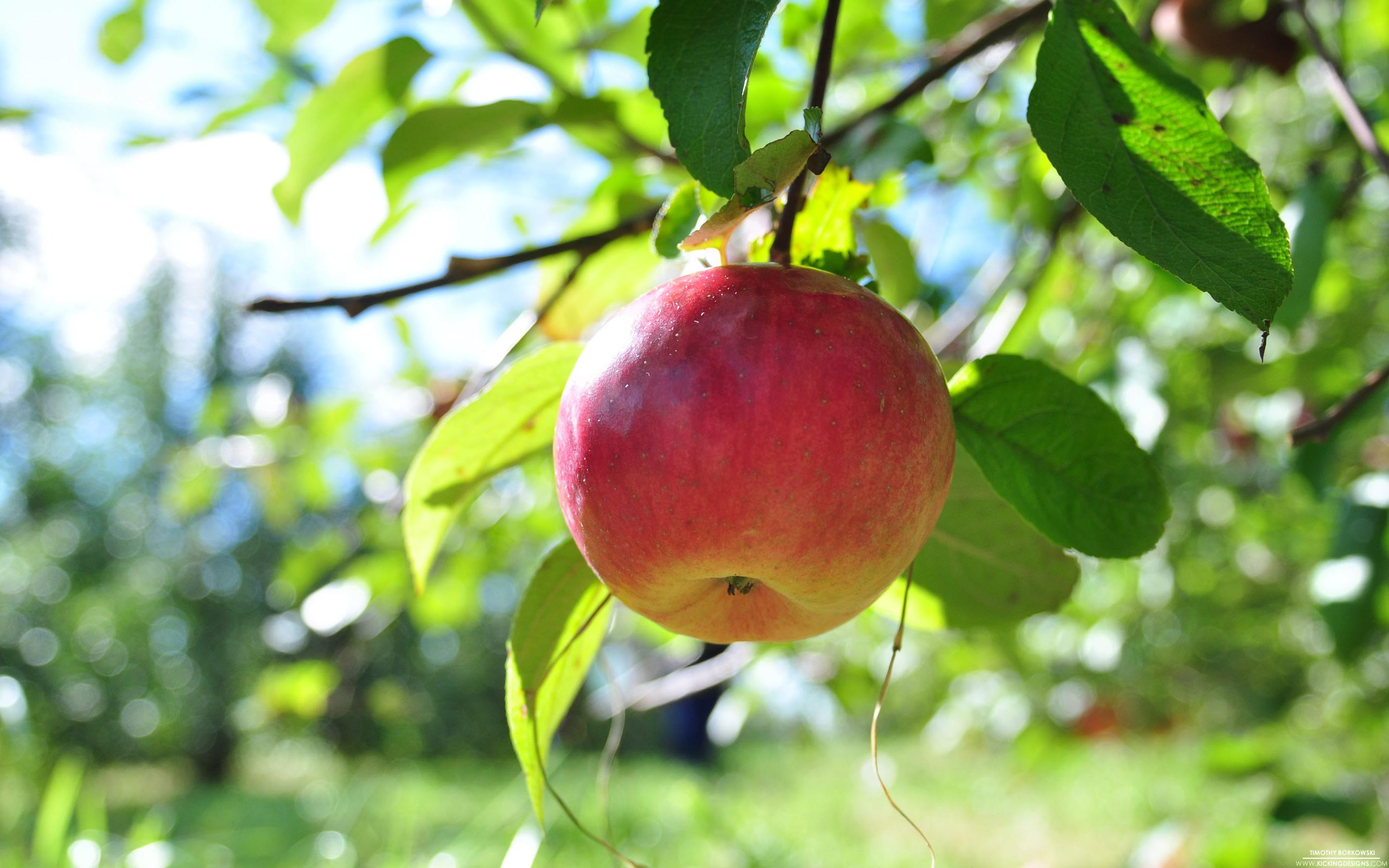apples: (547, 246, 966, 644)
